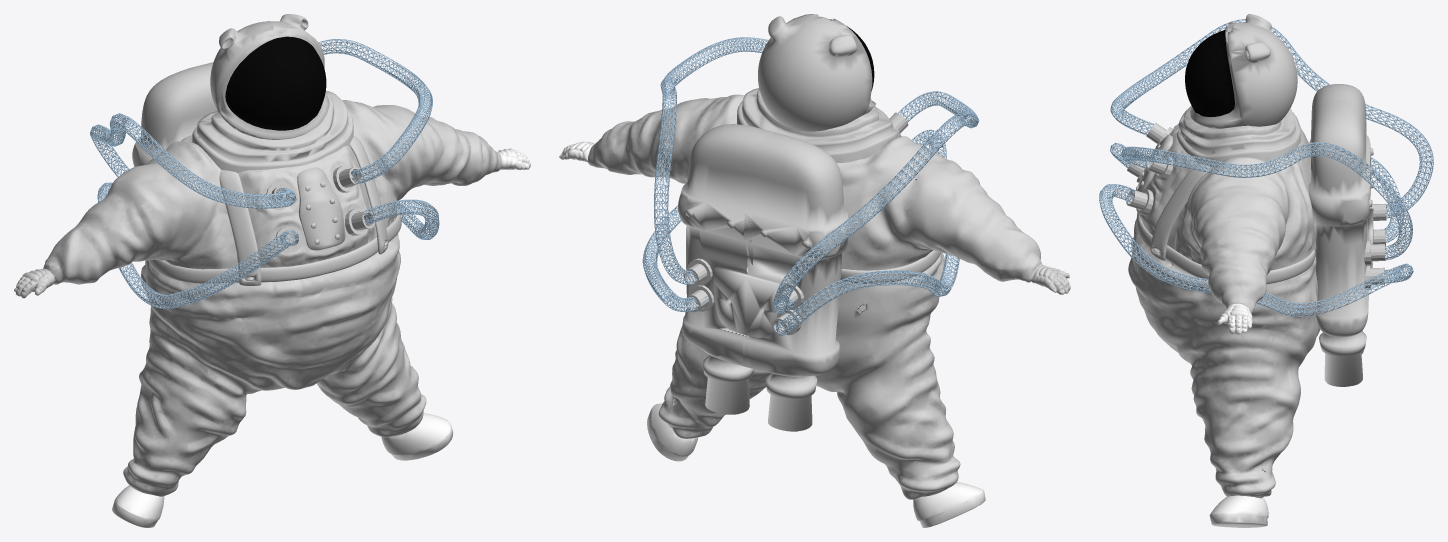
The model's file is spaceman.glb.
The picture shows the model from 3 angles, left to right: view 1: azimuth 30°, elevation 25°; view 2: azimuth 150°, elevation 25°; view 3: azimuth 270°, elevation 25°; orthographic projection. The views are drawn at different scales.
Parts seen in each view (by area): view 1: Sphere.009_0, Plane.005_0, NurbsPath.004_0, Sphere.007_0; view 2: Plane.005_0, Sphere.009_0, NurbsPath.004_0, Sphere.007_0; view 3: Sphere.009_0, Plane.005_0, NurbsPath.004_0, Sphere.007_0.
Part boxes in pixels (x1,y1,x2,y2): Sphere.009_0: (14, 100, 501, 496); Plane.005_0: (132, 14, 401, 291); NurbsPath.004_0: (90, 36, 439, 308); Sphere.007_0: (112, 148, 530, 527); Plane.005_0: (678, 14, 940, 431); Sphere.009_0: (587, 94, 1070, 499); NurbsPath.004_0: (642, 19, 979, 335); Sphere.007_0: (559, 141, 985, 527); Sphere.009_0: (1128, 112, 1320, 498); Plane.005_0: (1126, 14, 1386, 386); NurbsPath.004_0: (1099, 19, 1433, 316); Sphere.007_0: (1209, 303, 1268, 527).
Size of the model in its own units: 5.36 by 4.74 by 3.23.
Materials: 4 (4 with a texture image).
